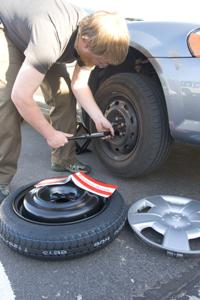person: (1, 1, 131, 207)
